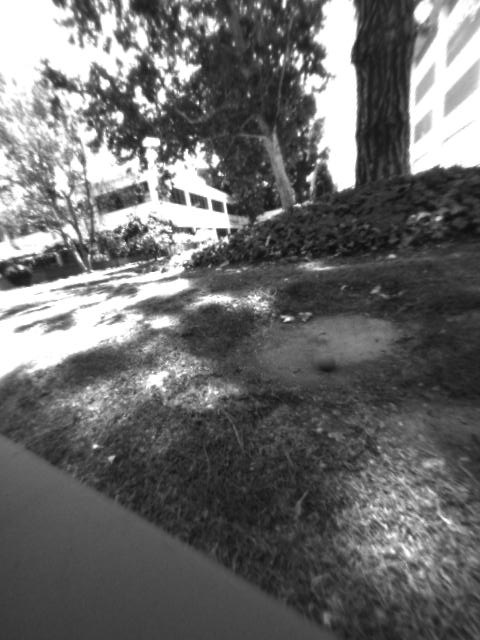dogtoy: (303, 343, 345, 377)
